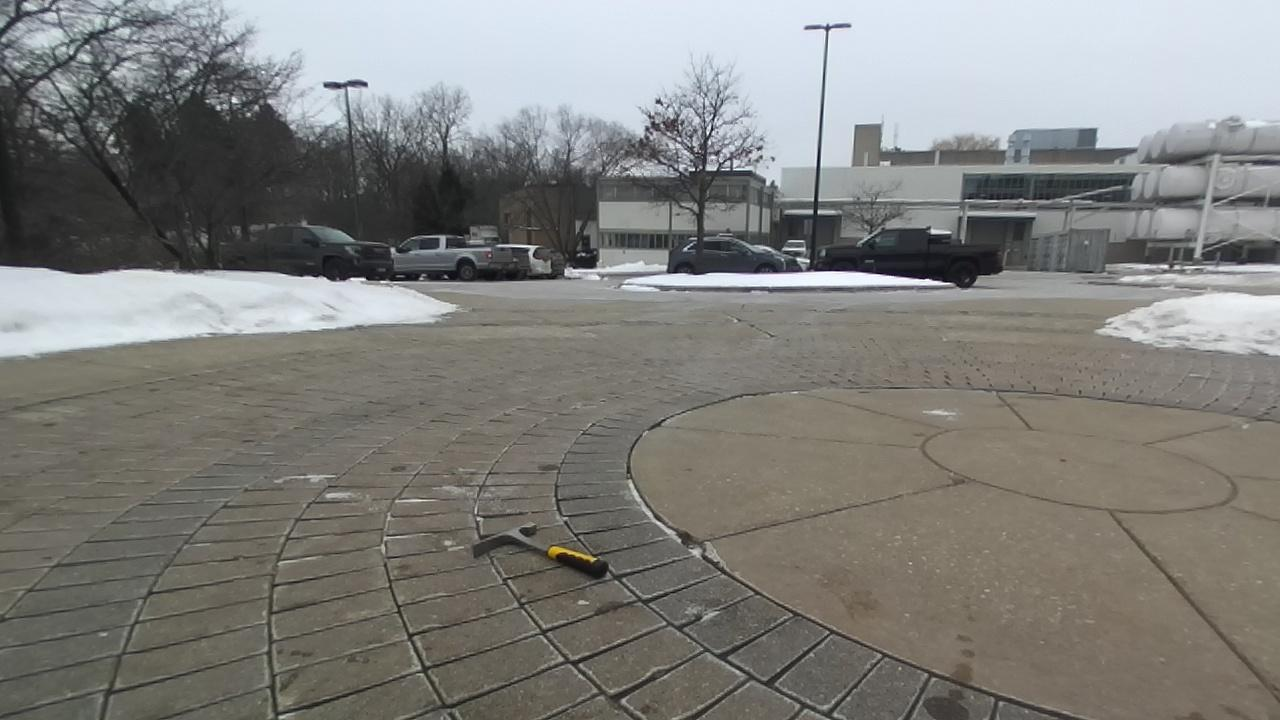pick: (473, 523, 608, 578)
